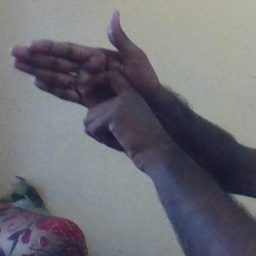R: (9, 8, 173, 153)
